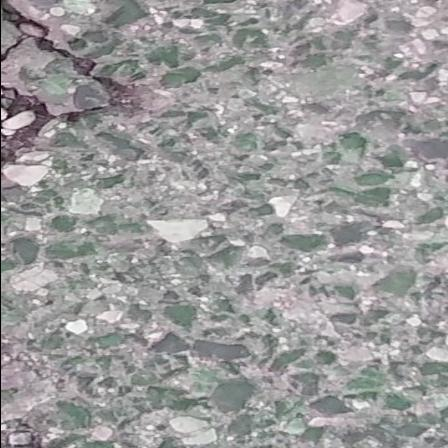crack: (0, 1, 135, 162)
